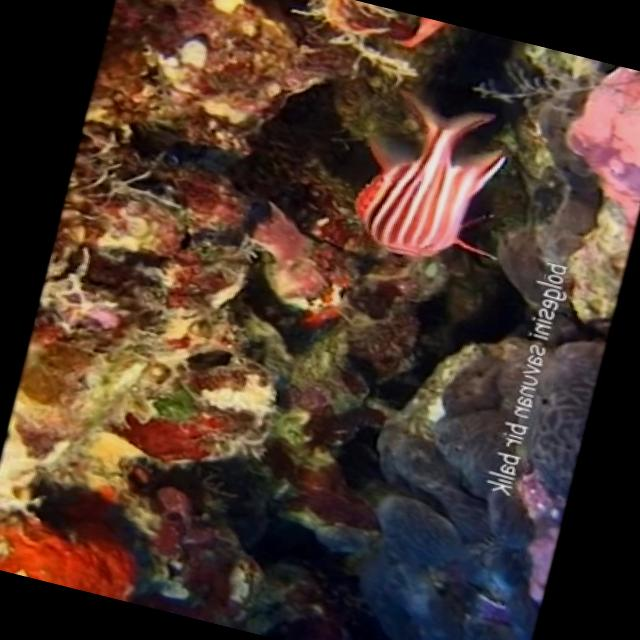Asker Baligi: (340, 79, 533, 278)
